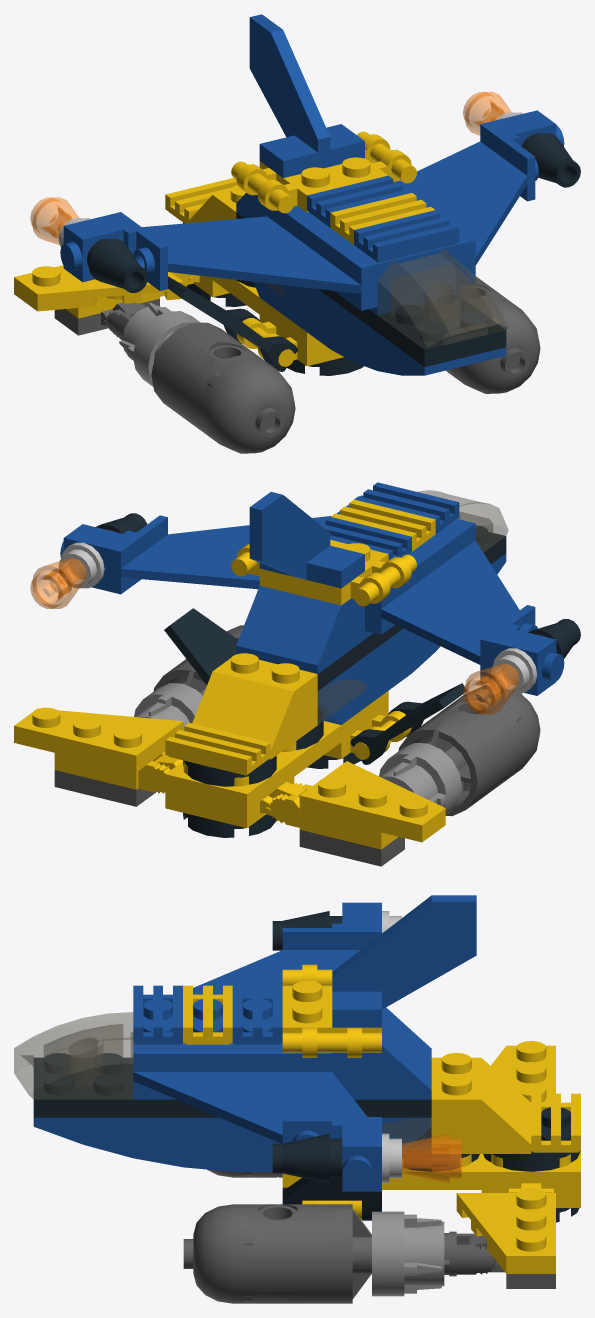
The model's file is 009-speed_falcon_hybrid.glb.
The picture shows the model from 3 angles, top to bottom: view 1: azimuth 30°, elevation 25°; view 2: azimuth 150°, elevation 25°; view 3: azimuth 270°, elevation 25°; orthographic projection. The views are drawn at different scales.
Parts seen in each view (by area): view 1: 2340.dat (×2), 30367c.dat (×2), 2412b.dat (×4), 30602.dat, 44661.dat, 2540.dat (×3), 4589.dat (×4), 30361d.dat (×2), 3034.dat, 42023.dat, 30414.dat (×2), 4070.dat (×2) (+10 smaller); view 2: 2340.dat (×2), 2412b.dat (×4), 3040b.dat (×2), 30361d.dat (×2), 3039.dat, 43722.dat, 43723.dat, 44661.dat, 2540.dat (×3), 44567b.dat (×4), 4589.dat (×4), 32187.dat (×2) (+11 smaller); view 3: 2340.dat (×2), 30361d.dat, 44661.dat, 30602.dat (×2), 42023.dat, 2412b.dat (×4), 3040b.dat (×2), 3034.dat, 43722.dat, 4589.dat (×3), 2540.dat (×2), 32187.dat (+12 smaller).
Part boxes in pixels (box(x1,y1,x2,y2)): 2340.dat (×2): box(113, 122, 538, 310); 30367c.dat (×2): box(198, 297, 540, 453); 2412b.dat (×4): box(165, 175, 459, 262); 30602.dat: box(377, 249, 508, 349); 44661.dat: box(249, 14, 364, 177); 2540.dat (×3): box(231, 131, 416, 366); 4589.dat (×4): box(30, 91, 580, 292); 30361d.dat (×2): box(151, 276, 516, 440); 3034.dat: box(236, 212, 506, 366); 42023.dat: box(283, 285, 465, 375); 30414.dat (×2): box(307, 212, 459, 315); 4070.dat (×2): box(60, 110, 564, 282); 2340.dat (×2): box(112, 495, 537, 683); 2412b.dat (×4): box(165, 482, 459, 775); 3040b.dat (×2): box(192, 653, 317, 759); 30361d.dat (×2): box(153, 635, 524, 816); 3039.dat: box(236, 585, 364, 673); 43722.dat: box(14, 707, 183, 772); 43723.dat: box(299, 761, 445, 842); 44661.dat: box(249, 492, 364, 588); 2540.dat (×3): box(231, 540, 416, 759); 44567b.dat (×4): box(54, 755, 404, 866); 4589.dat (×4): box(30, 513, 580, 714); 32187.dat (×2): box(134, 683, 462, 815); 2340.dat (×2): box(133, 928, 381, 1143); 30361d.dat: box(243, 1204, 371, 1303); 44661.dat: box(332, 895, 476, 1027); 30602.dat (×2): box(14, 1012, 431, 1148); 42023.dat: box(33, 1117, 280, 1171); 2412b.dat (×4): box(133, 985, 580, 1152); 3040b.dat (×2): box(431, 1053, 531, 1153); 3034.dat: box(33, 1053, 431, 1117); 43722.dat: box(456, 1188, 555, 1273); 4589.dat (×3): box(272, 911, 461, 1183); 2540.dat (×2): box(282, 964, 381, 1057); 32187.dat: box(372, 1211, 444, 1296).
Bounding box in the file's own units: 0.096 × 0.0599 × 0.0912.
